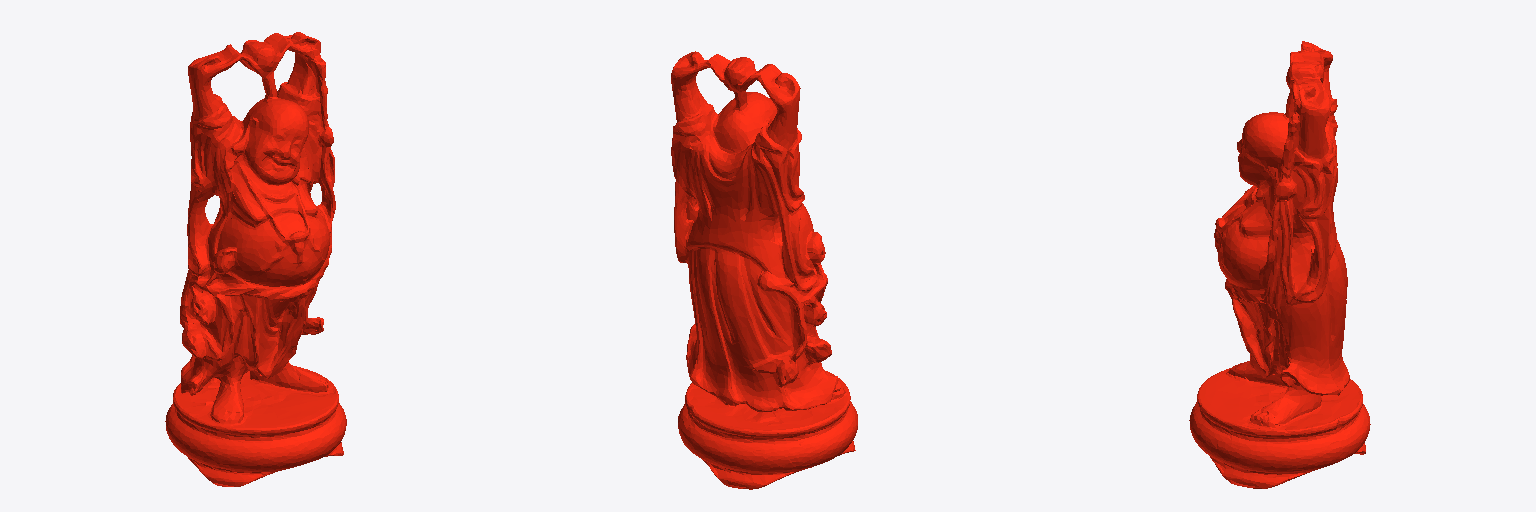
Rendered from happy.obj.
3 renders of one model, left to right at view 1: azimuth 30°, elevation 25°; view 2: azimuth 150°, elevation 25°; view 3: azimuth 270°, elevation 25°, orthographic.
Size of the model in its own units: 0.8125 by 1.98 by 0.8133.